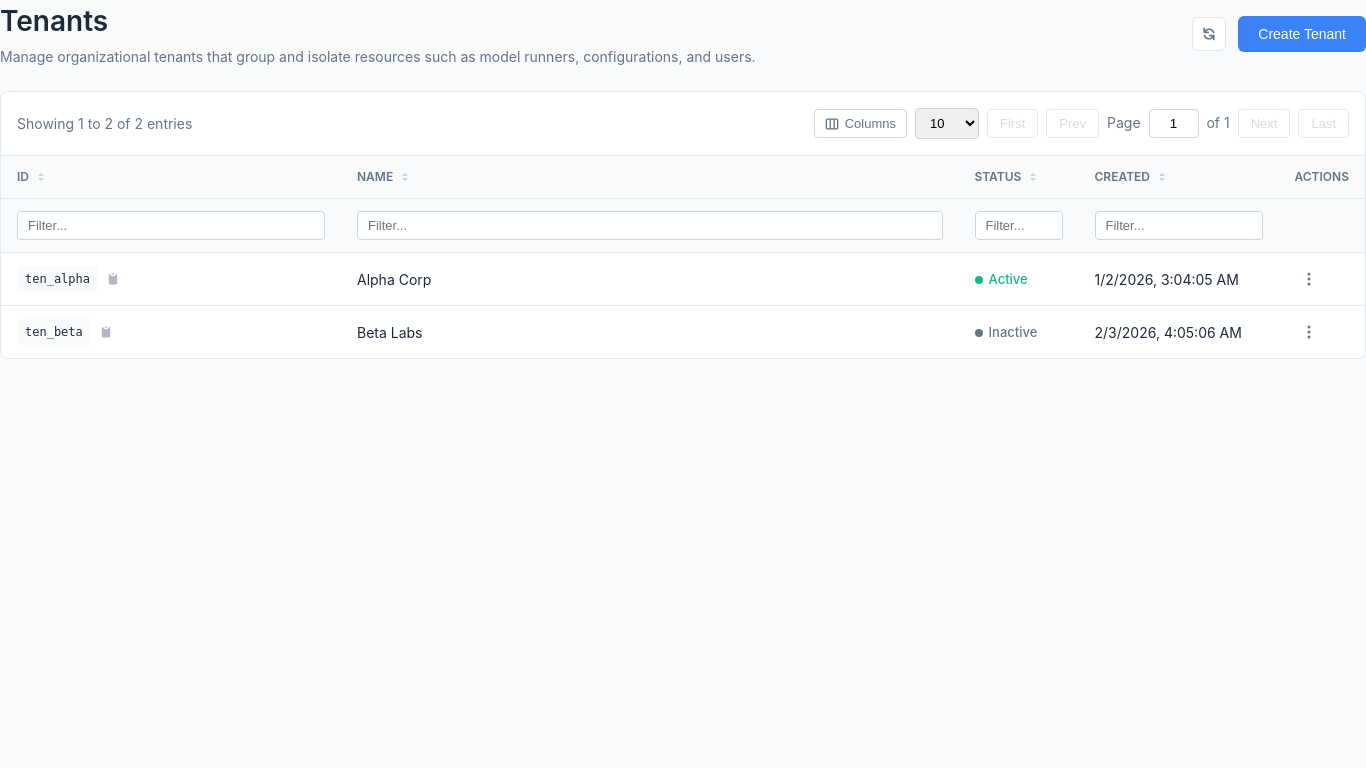
it: Tenants view › creates a tenant with the entered values
Expected: the text "Alpha Corp" is shown, [341, 252, 958, 306]
Click the button "Create Tenant". click: (1302, 34)
box: [1238, 16, 1365, 52]
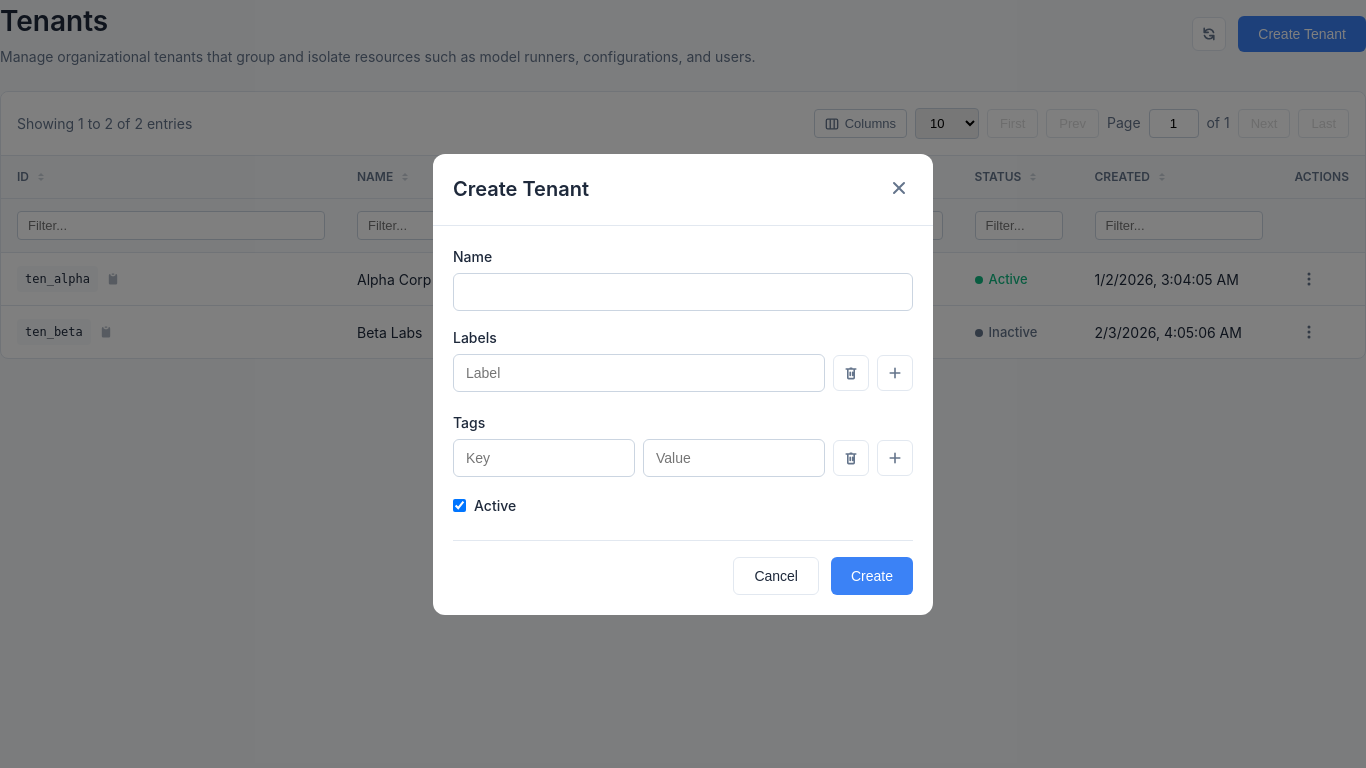
Now the form is shown, box [453, 246, 913, 594]
Type "Gamma Inc" into the field labelled "Name". click: (683, 292)
box: [453, 272, 913, 310]
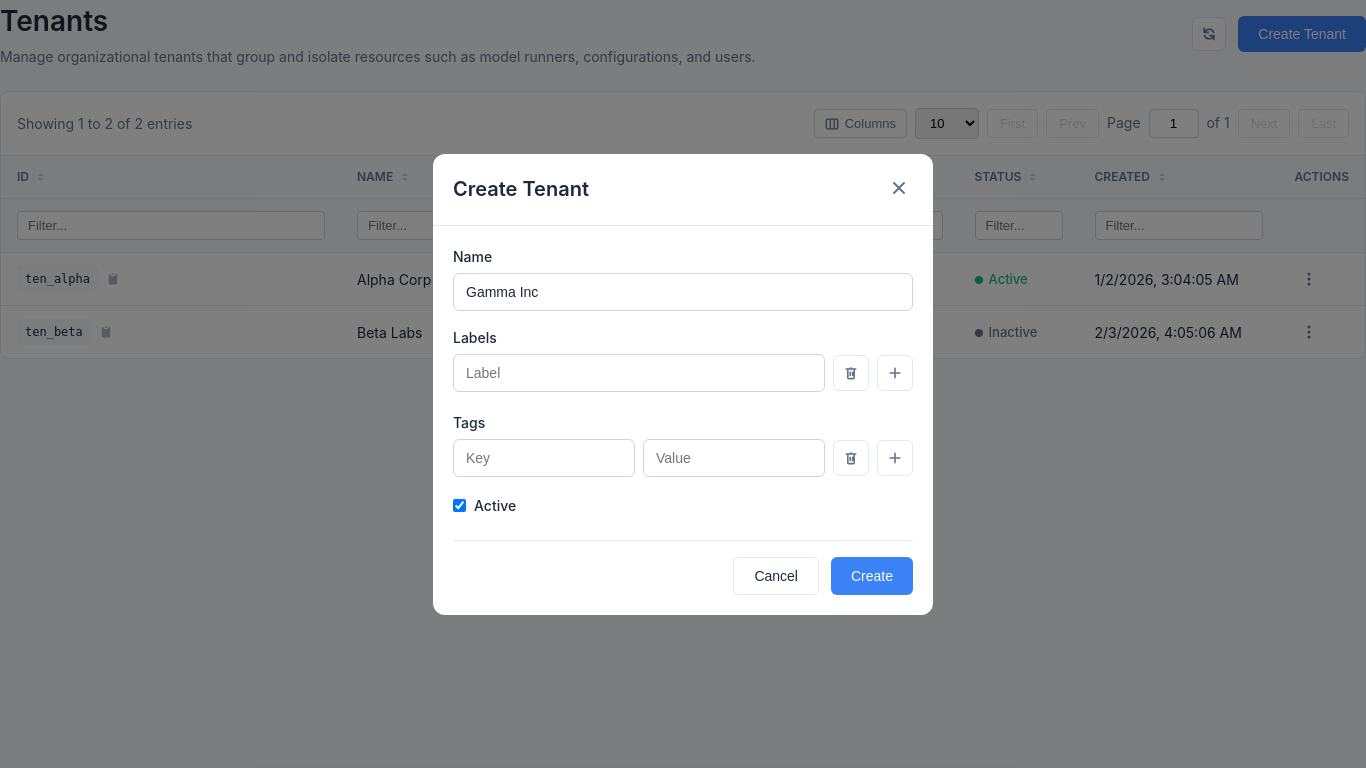
Click the checkbox labelled "Active". click: (460, 505)
box: [453, 498, 466, 512]
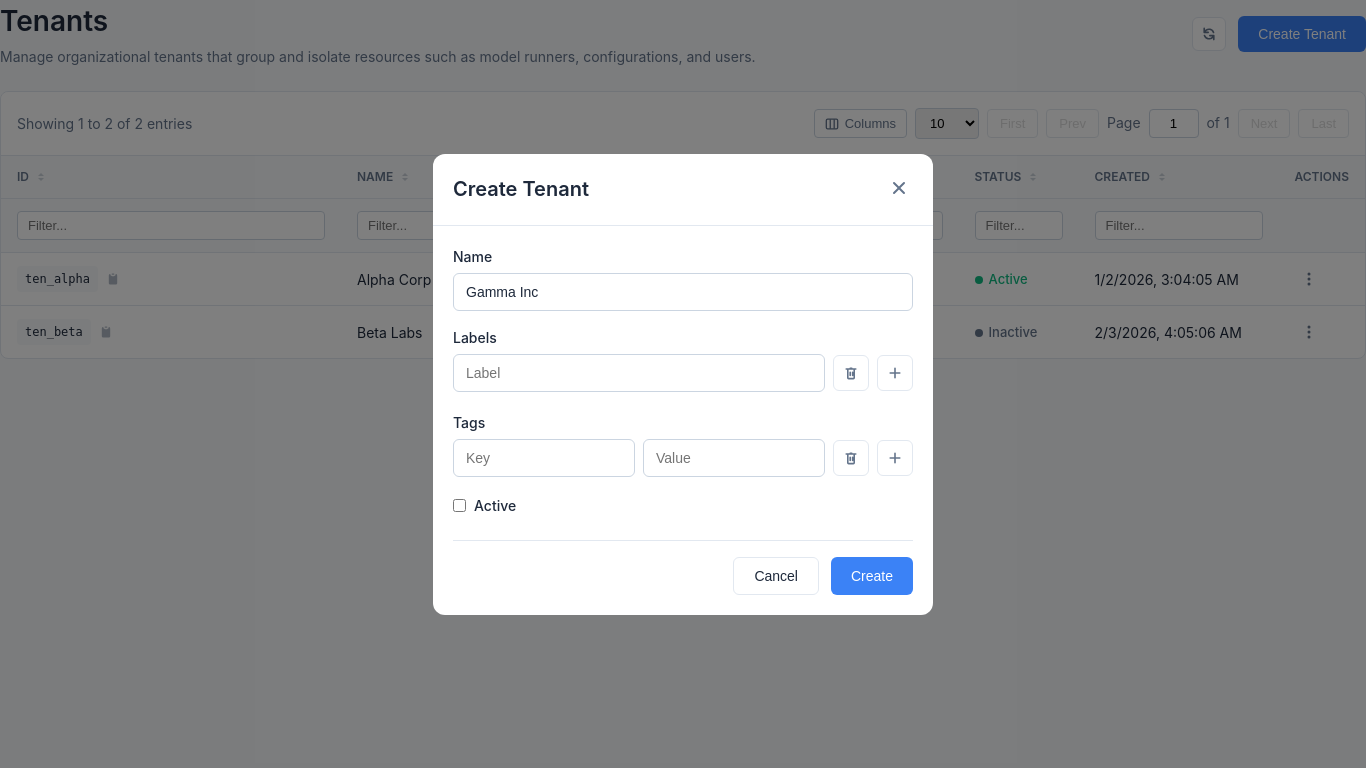
Click the button "Create". click: (872, 576)
box: [831, 556, 913, 594]
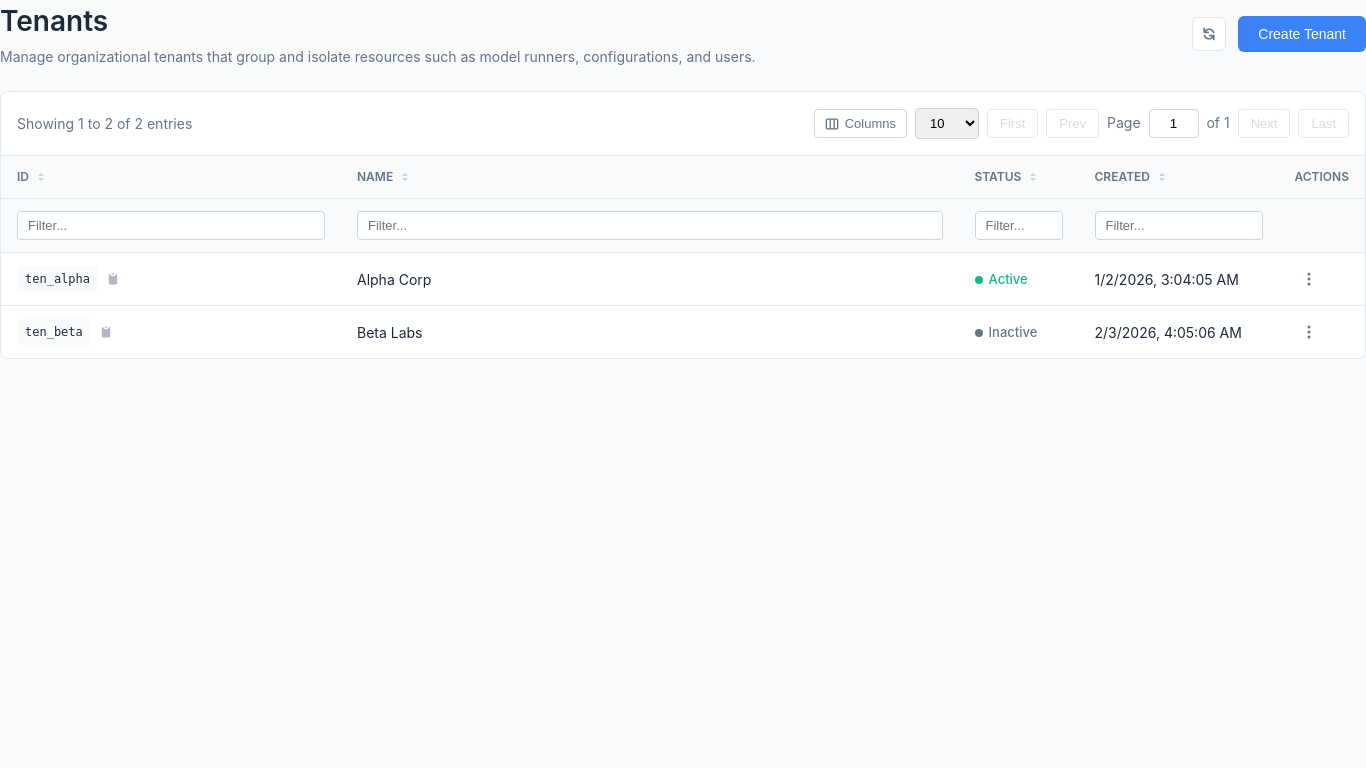
Now the form is gone
